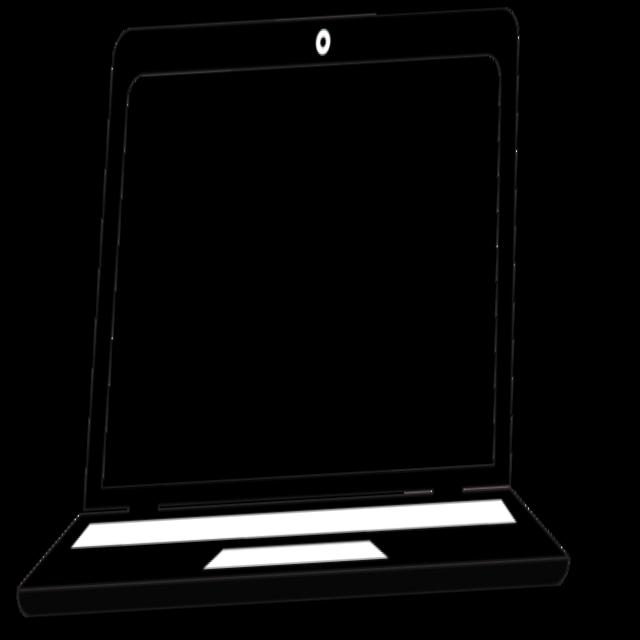Client: (6, 0, 640, 639)
